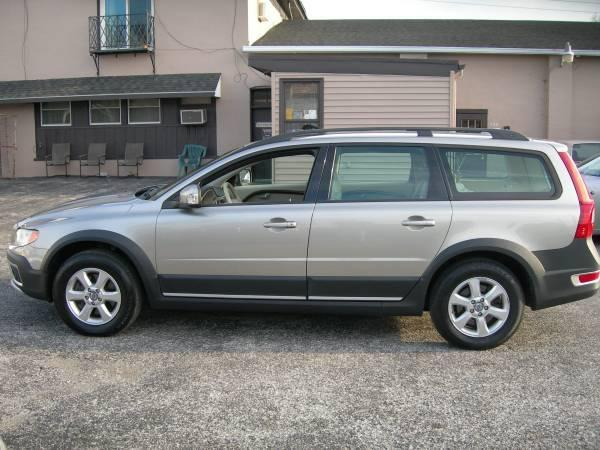Front_Bumper: (5, 245, 48, 300)
Front_Fender: (31, 202, 163, 307)
Front_Left_Door: (152, 199, 318, 306)
Front_Left_Window: (158, 138, 328, 208)
Hood: (22, 185, 156, 229)
Left_Headlight: (11, 225, 41, 247)
Left_Taillight: (560, 149, 597, 236)
Rear_Bumper: (519, 233, 600, 307)
Rear_Fender: (434, 137, 580, 253)
Rear_Left_Door: (305, 199, 450, 315)
Rear_Left_Window: (317, 133, 453, 199)
Wheel: (430, 258, 525, 354), (50, 250, 140, 341)
